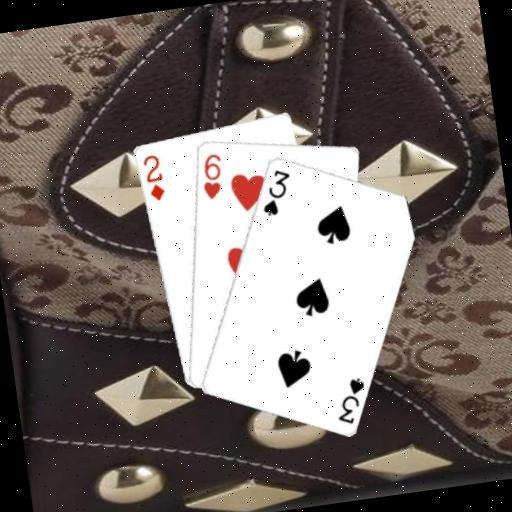2D: (138, 150, 167, 203)
3S: (254, 164, 297, 219), (329, 373, 371, 427)
6H: (195, 149, 228, 202)
